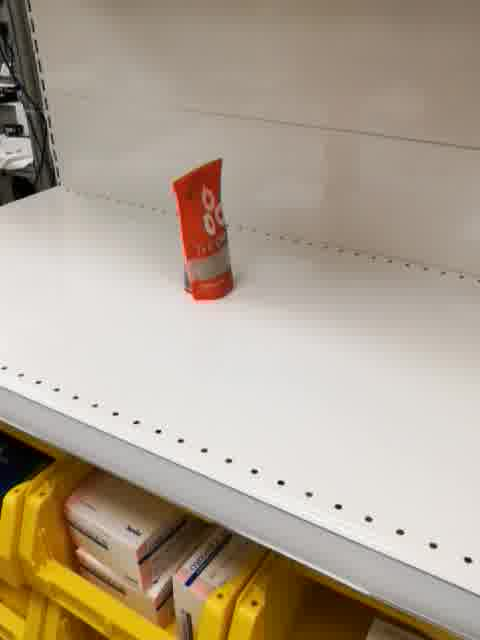whitechia: (174, 158, 233, 301)
